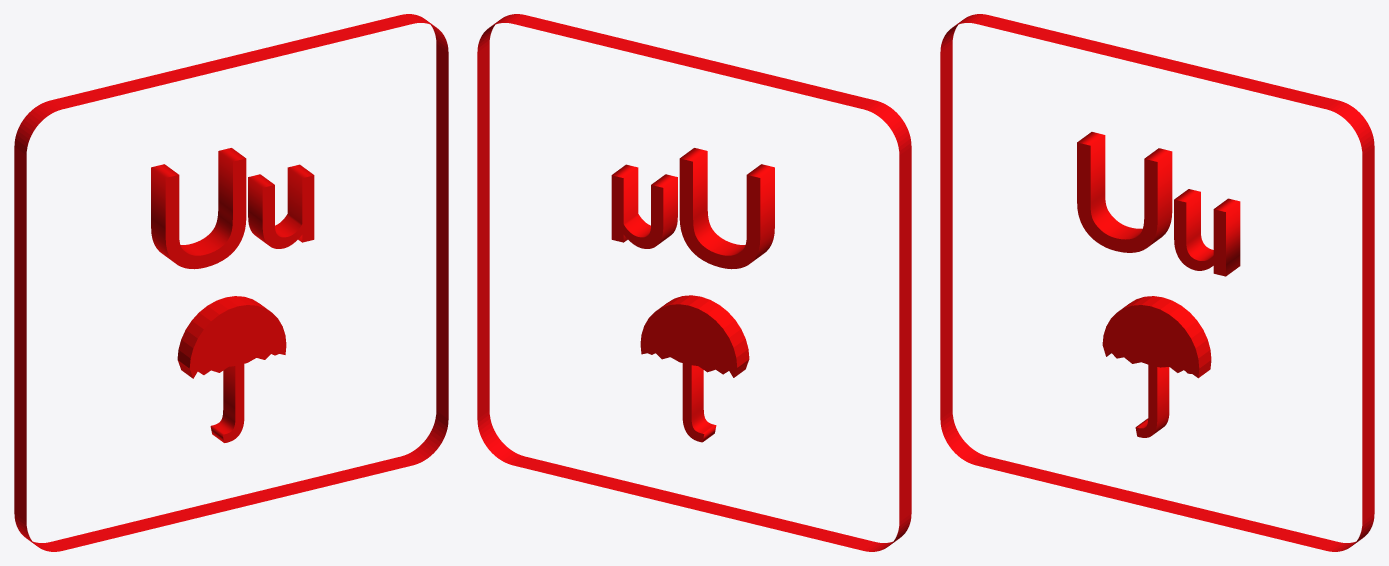
File: Letter_U.glb
3 views of the same model, side by side, from view 1: azimuth 30°, elevation 25°; view 2: azimuth 150°, elevation 25°; view 3: azimuth 330°, elevation 25° (orthographic).
Visible parts, largest first — view 1: Cube, Text, Cylinder, Text.001; view 2: Cube, Text, Cylinder, Text.001; view 3: Cube, Text, Cylinder, Text.001.
Part boxes in pixels (left/top/right/bottom): Cube: left=14, top=14, right=448, bottom=551; Text: left=151, top=148, right=314, bottom=269; Cylinder: left=177, top=296, right=286, bottom=378; Text.001: left=210, top=364, right=244, bottom=442; Cube: left=477, top=14, right=911, bottom=551; Text: left=611, top=148, right=774, bottom=269; Cylinder: left=640, top=295, right=749, bottom=377; Text.001: left=682, top=363, right=716, bottom=442; Cube: left=940, top=14, right=1374, bottom=551; Text: left=1077, top=132, right=1240, bottom=276; Cylinder: left=1102, top=296, right=1211, bottom=378; Text.001: left=1135, top=365, right=1169, bottom=437.
Size of the model in its own units: 2 by 2 by 0.12.
